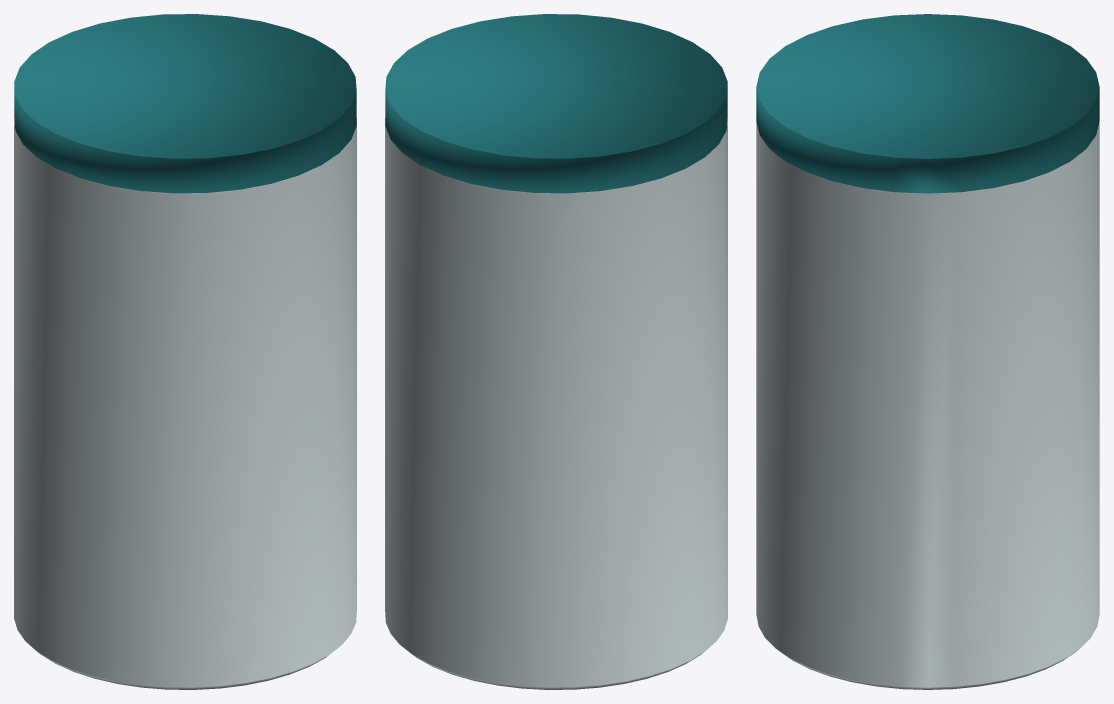
File: VLAB_jar.fbx
3 views of the same model, side by side, from view 1: azimuth 30°, elevation 25°; view 2: azimuth 150°, elevation 25°; view 3: azimuth 270°, elevation 25° (orthographic).
Parts seen in each view (by area): view 1: VLAB_jar_Body_VIS, VLAB_jar_Lid_VIS; view 2: VLAB_jar_Body_VIS, VLAB_jar_Lid_VIS; view 3: VLAB_jar_Body_VIS, VLAB_jar_Lid_VIS.
Boxes of the visible parts, x1,y1,x2,y2 form: VLAB_jar_Body_VIS: [14, 118, 356, 689]; VLAB_jar_Lid_VIS: [14, 14, 356, 193]; VLAB_jar_Body_VIS: [385, 118, 727, 689]; VLAB_jar_Lid_VIS: [385, 14, 727, 193]; VLAB_jar_Body_VIS: [756, 122, 1099, 689]; VLAB_jar_Lid_VIS: [756, 14, 1099, 193].
Size of the model in its own units: 0.07 by 0.12 by 0.07.
